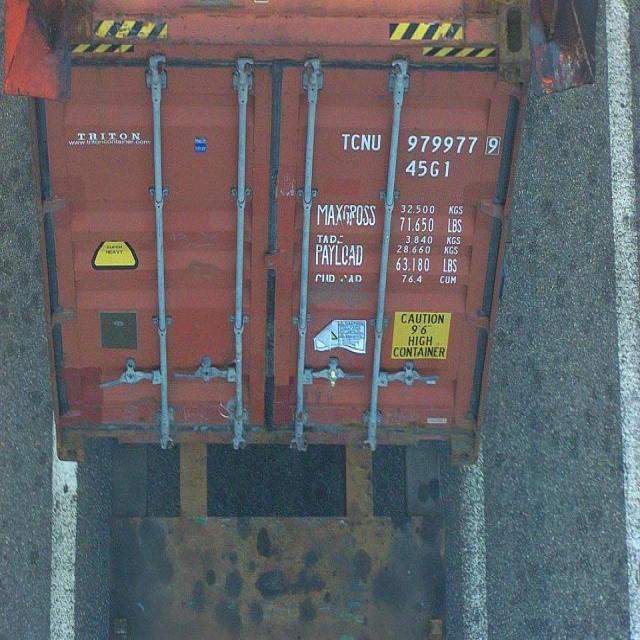ISO: (405, 160, 450, 177)
container_number: (338, 129, 501, 155)
